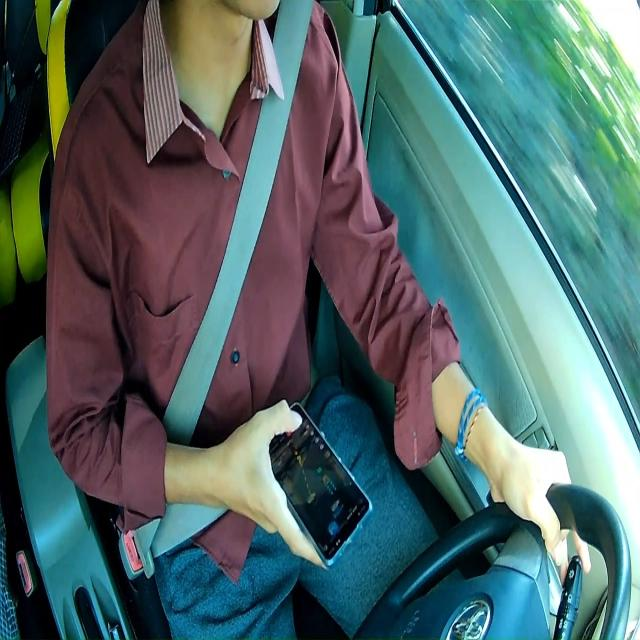phone: (268, 401, 372, 568)
